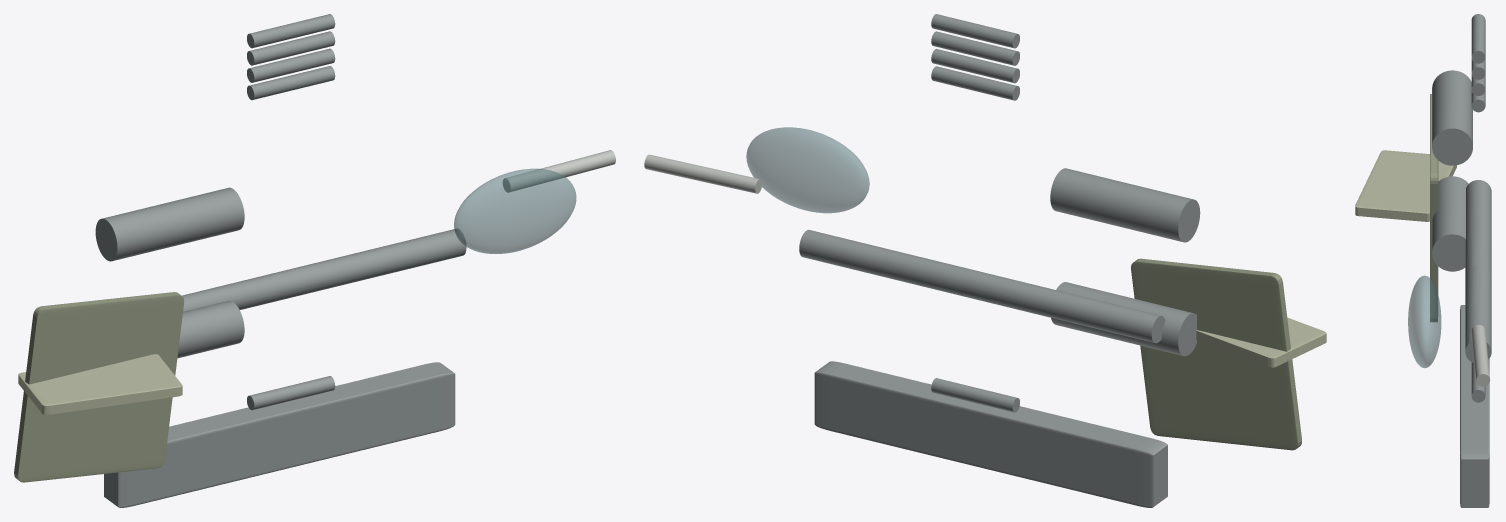
File: v-u30-vanguard-aerial-artillery-lod2.glb
3 views of the same model, side by side, from view 1: azimuth 30°, elevation 25°; view 2: azimuth 150°, elevation 25°; view 3: azimuth 270°, elevation 25° (orthographic). The views are drawn at different scales.
Parts seen in each view (by area): view 1: artillery_pod_-1, combat_tailplane_-1, combat_canopy, combat_engine_1, combat_fin_-1, aerial_launcher_4, aerial_launcher_2, combat_engine_0, combat_gun_barrel_0, combat_-1_tube_4, combat_1_tube_1, combat_1_tube_2 (+3 smaller); view 2: artillery_pod_-1, combat_tailplane_-1, combat_canopy, combat_engine_1, aerial_launcher_0, aerial_launcher_2, aerial_launcher_4, combat_engine_0, combat_fin_-1, combat_gun_barrel_0, combat_1_tube_1, combat_1_tube_3 (+3 smaller); view 3: combat_fin_-1, artillery_pod_-1, combat_engine_1, combat_engine_0, combat_canopy, aerial_launcher_0, aerial_launcher_4, aerial_launcher_2, combat_tailplane_-1, combat_gun_barrel_0, combat_1_tube_4, combat_-1_tube_4 (+3 smaller).
Part boxes in pixels (x1=…): artillery_pod_-1: x1=104, y1=362, x2=455, y2=507; combat_tailplane_-1: x1=14, y1=292, x2=184, y2=482; combat_canopy: x1=454, y1=168, x2=576, y2=253; combat_engine_1: x1=95, y1=187, x2=244, y2=261; combat_fin_-1: x1=18, y1=354, x2=182, y2=414; aerial_launcher_4: x1=271, y1=229, x2=466, y2=294; aerial_launcher_2: x1=190, y1=248, x2=384, y2=309; combat_engine_0: x1=177, y1=300, x2=244, y2=358; combat_gun_barrel_0: x1=503, y1=150, x2=615, y2=192; combat_-1_tube_4: x1=247, y1=376, x2=335, y2=410; combat_1_tube_1: x1=247, y1=66, x2=335, y2=100; combat_1_tube_2: x1=247, y1=48, x2=335, y2=82; artillery_pod_-1: x1=814, y1=361, x2=1167, y2=507; combat_tailplane_-1: x1=1131, y1=258, x2=1301, y2=450; combat_canopy: x1=746, y1=127, x2=869, y2=213; combat_engine_1: x1=1050, y1=168, x2=1200, y2=242; aerial_launcher_0: x1=962, y1=269, x2=1165, y2=343; aerial_launcher_2: x1=880, y1=249, x2=1077, y2=322; aerial_launcher_4: x1=799, y1=230, x2=991, y2=303; combat_engine_0: x1=1051, y1=282, x2=1196, y2=356; combat_fin_-1: x1=1196, y1=317, x2=1326, y2=367; combat_gun_barrel_0: x1=644, y1=154, x2=762, y2=193; combat_1_tube_1: x1=931, y1=66, x2=1019, y2=100; combat_1_tube_3: x1=931, y1=31, x2=1019, y2=65; combat_fin_-1: x1=1355, y1=150, x2=1456, y2=221; artillery_pod_-1: x1=1460, y1=305, x2=1489, y2=507; combat_engine_1: x1=1432, y1=70, x2=1472, y2=165; combat_engine_0: x1=1432, y1=176, x2=1468, y2=271; combat_canopy: x1=1408, y1=275, x2=1441, y2=367; aerial_launcher_0: x1=1465, y1=180, x2=1491, y2=276; aerial_launcher_4: x1=1465, y1=254, x2=1491, y2=363; aerial_launcher_2: x1=1465, y1=217, x2=1491, y2=313; combat_tailplane_-1: x1=1430, y1=94, x2=1438, y2=321; combat_gun_barrel_0: x1=1471, y1=325, x2=1490, y2=386; combat_1_tube_4: x1=1471, y1=14, x2=1485, y2=63; combat_-1_tube_4: x1=1471, y1=362, x2=1485, y2=402.
Size of what is drawn, in the model's own units: 15.24 by 10.16 by 3.09.
